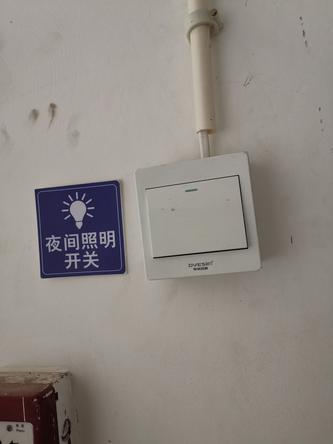switch: (140, 170, 253, 260)
